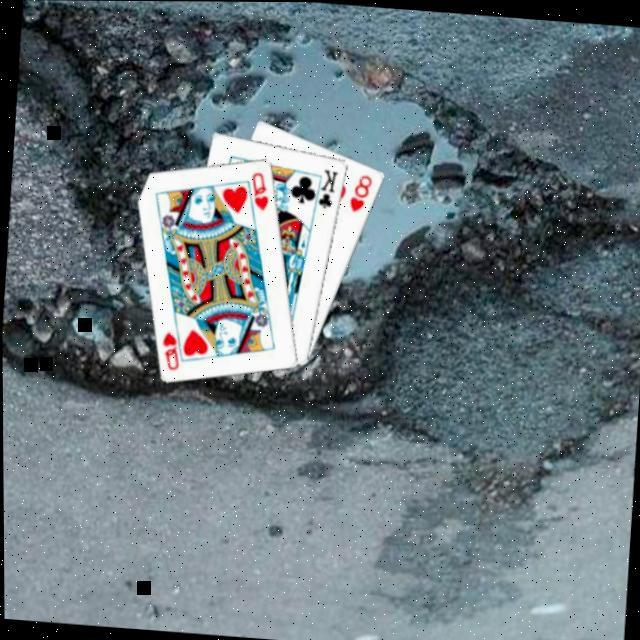8H: (342, 170, 373, 216)
KC: (307, 165, 338, 215)
QH: (155, 320, 186, 373), (244, 167, 271, 213)
